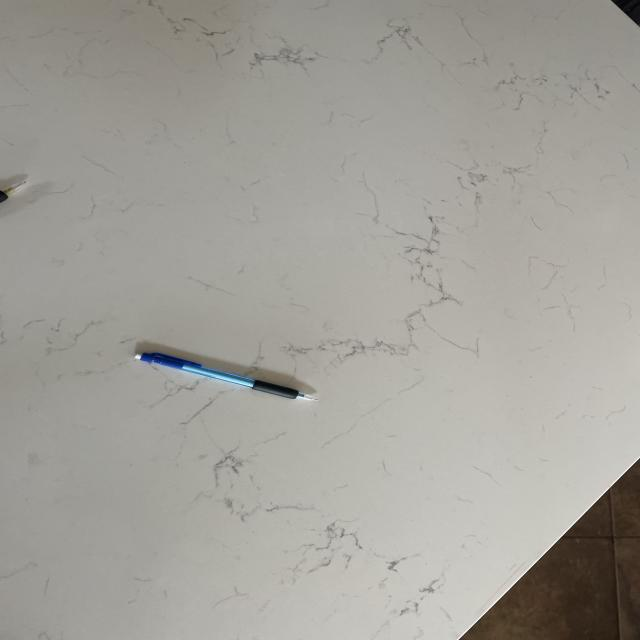mechanical-pencils: (129, 342, 320, 410)
